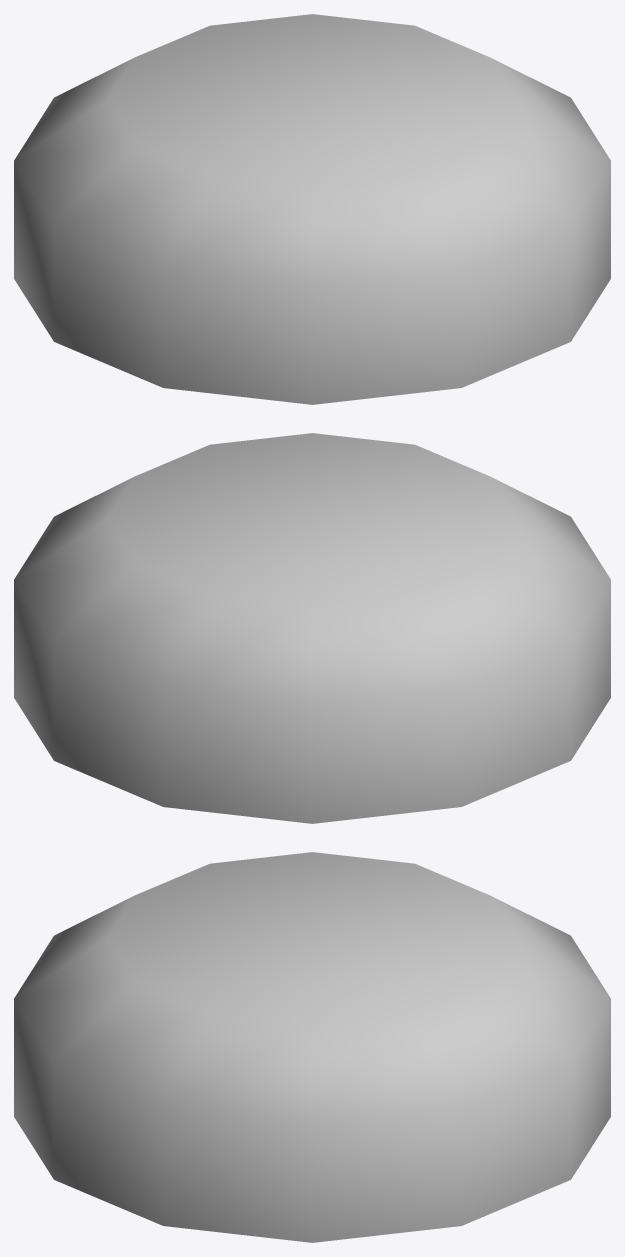
The model's file is Bolt_2.FBX.
3 renders of one model, top to bottom at view 1: azimuth 30°, elevation 25°; view 2: azimuth 150°, elevation 25°; view 3: azimuth 270°, elevation 25°, orthographic.
Parts seen in each view (by area): view 1: Bolt_2; view 2: Bolt_2; view 3: Bolt_2.
Boxes of the visible parts, bbox=[...] form: Bolt_2: bbox=[14, 14, 610, 404]; Bolt_2: bbox=[14, 433, 610, 823]; Bolt_2: bbox=[14, 852, 610, 1242].
Size of the model in its own units: 3.61 by 1.19 by 3.61.
Materials: 1 (1 with a texture image).
